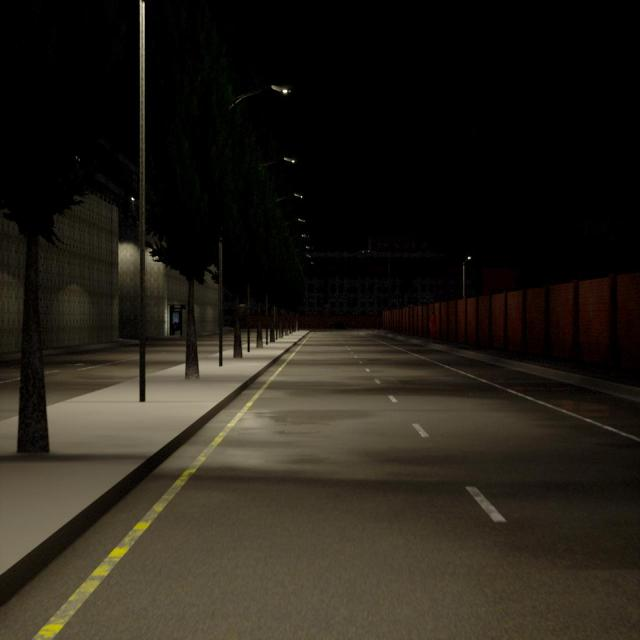Pedestrian: (430, 313, 435, 342)
Vehicle: (329, 321, 346, 328)
